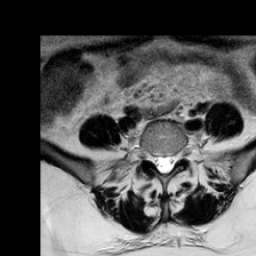CCS_normal: (160, 145, 168, 184)
LFS_normal: (174, 141, 182, 169)
LLS_normal: (168, 145, 176, 177)
RFS_normal: (146, 140, 153, 169)
RLS_normal: (153, 146, 160, 177)
